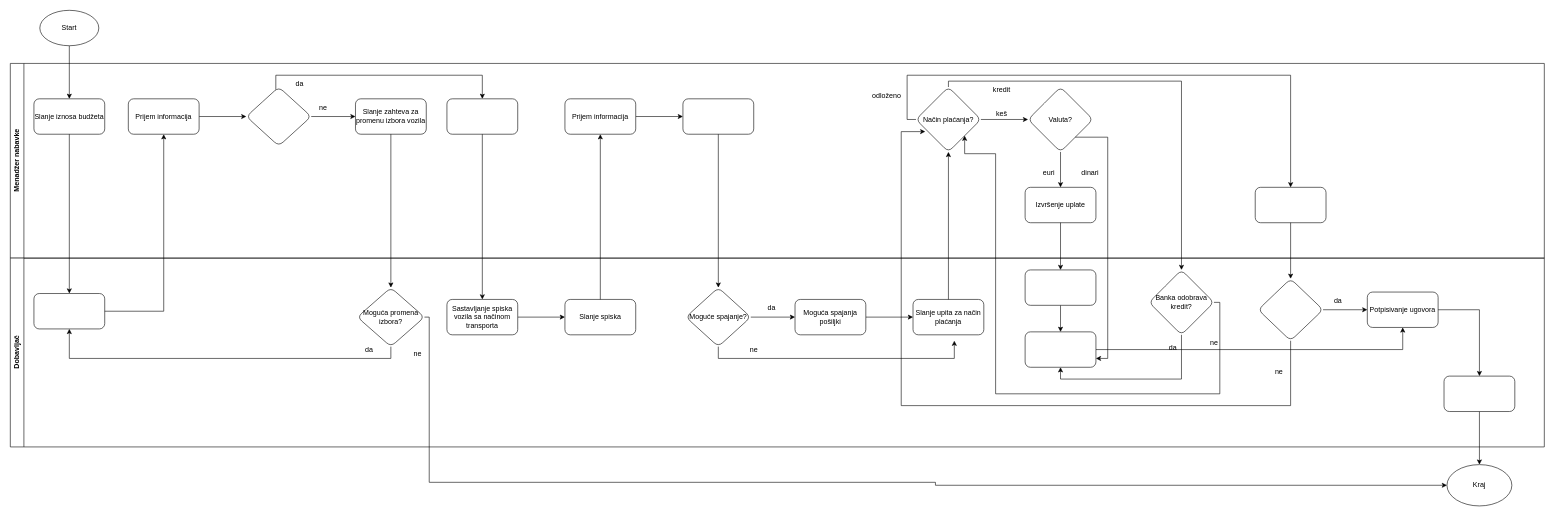
The diagram is 1555 pixels wide and 516 high, and some of its shapes have lost their labels. The centre of each missing label's shape, as x and y in pixels:
Konvertovanje novca: point 1060,287
Odgovara izbor vozila: point 278,116
Prijem uplate: point 1060,349
Pronalazak i slanje najaktuelnijih vozila u okviru budžeta: point 69,311
Registracija transakcije: point 1479,394
Rok odgovara?: point 1290,309
Slanje roka za odloženo plaćanje: point 1290,205
Slanje zahteva za dogovor oko transporta: point 482,116
Slanje zahteva za moguče spajanje isporuka: point 718,116
